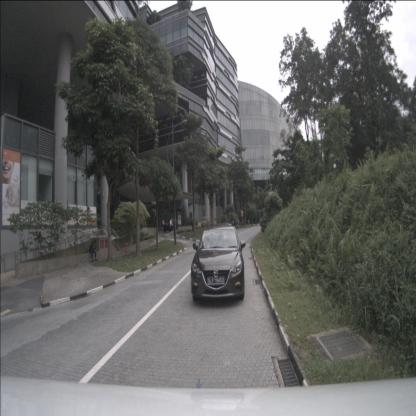human-pedestrian-adult: (89, 240, 98, 262), (162, 218, 164, 233)
vehicle-car: (191, 223, 245, 303), (164, 220, 174, 233)
